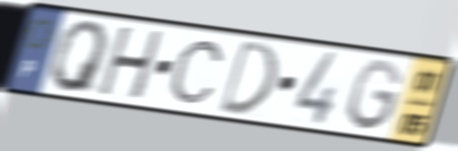4: (291, 49, 338, 129)
C: (166, 38, 227, 106)
D: (215, 37, 280, 116)
G: (344, 57, 406, 135)
H: (94, 25, 168, 103)
Q: (49, 19, 112, 96)
